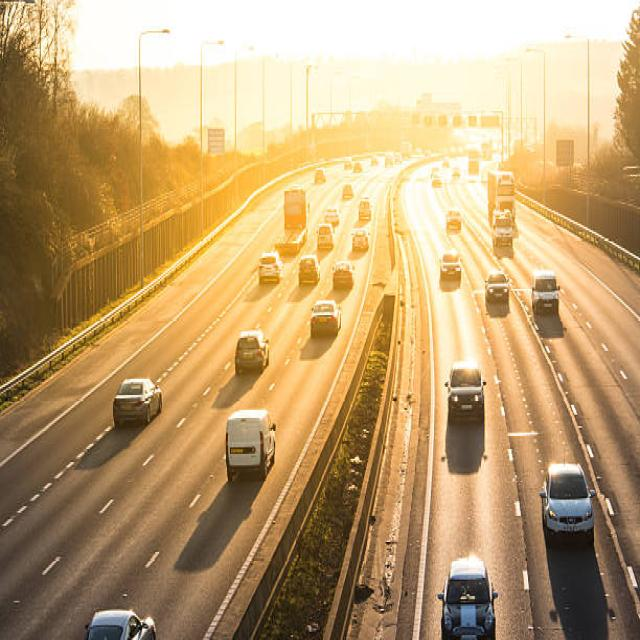Car: (437, 554, 498, 638), (539, 460, 596, 542), (444, 359, 486, 421), (112, 377, 162, 428), (82, 608, 156, 638), (234, 328, 269, 376), (532, 270, 560, 314), (309, 299, 341, 336), (484, 271, 509, 302), (258, 250, 282, 282), (439, 248, 461, 278), (298, 253, 319, 283), (332, 260, 354, 288), (316, 222, 334, 250), (351, 227, 368, 251), (446, 209, 461, 232), (324, 206, 339, 225), (358, 198, 371, 218), (314, 168, 325, 183), (342, 183, 352, 199)
MiniBus: (225, 408, 276, 482)
